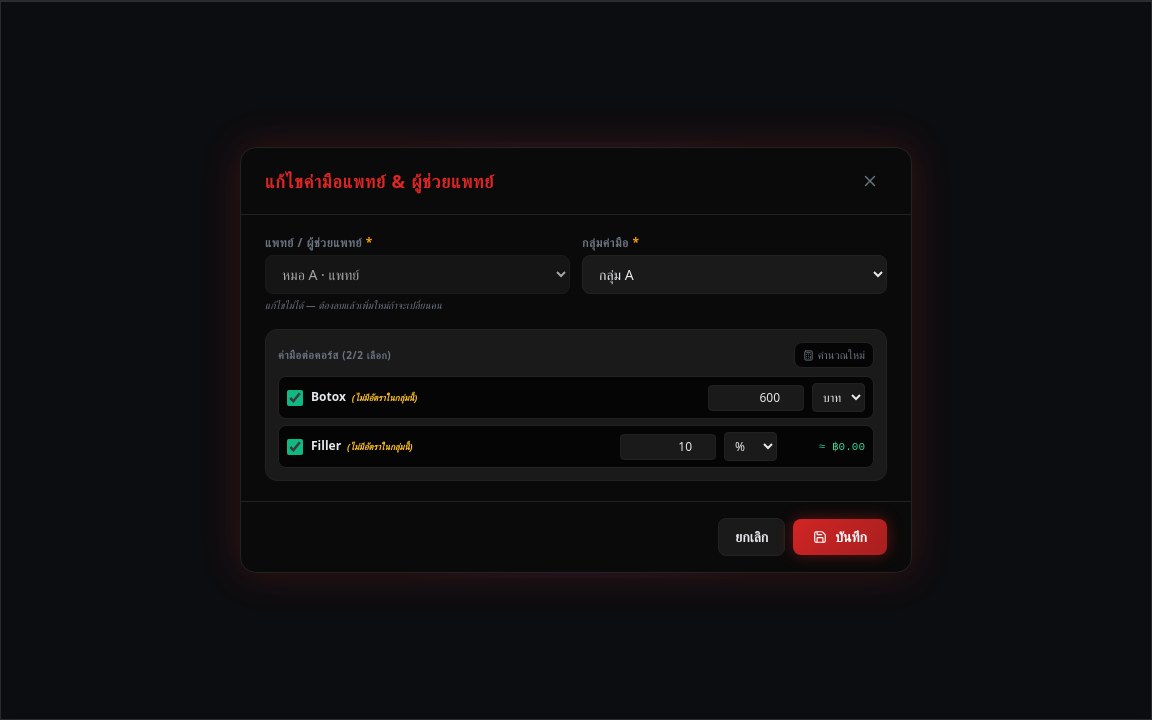
DfEntryModal — EDIT mode › DFM12: changing group in edit mode rebuilds rows
The width and height of the screenshot is (1152, 720).
Select "กลุ่ม B" in the dropdown below "กลุ่มค่ามือ": (734, 274) [582,255,887,294]
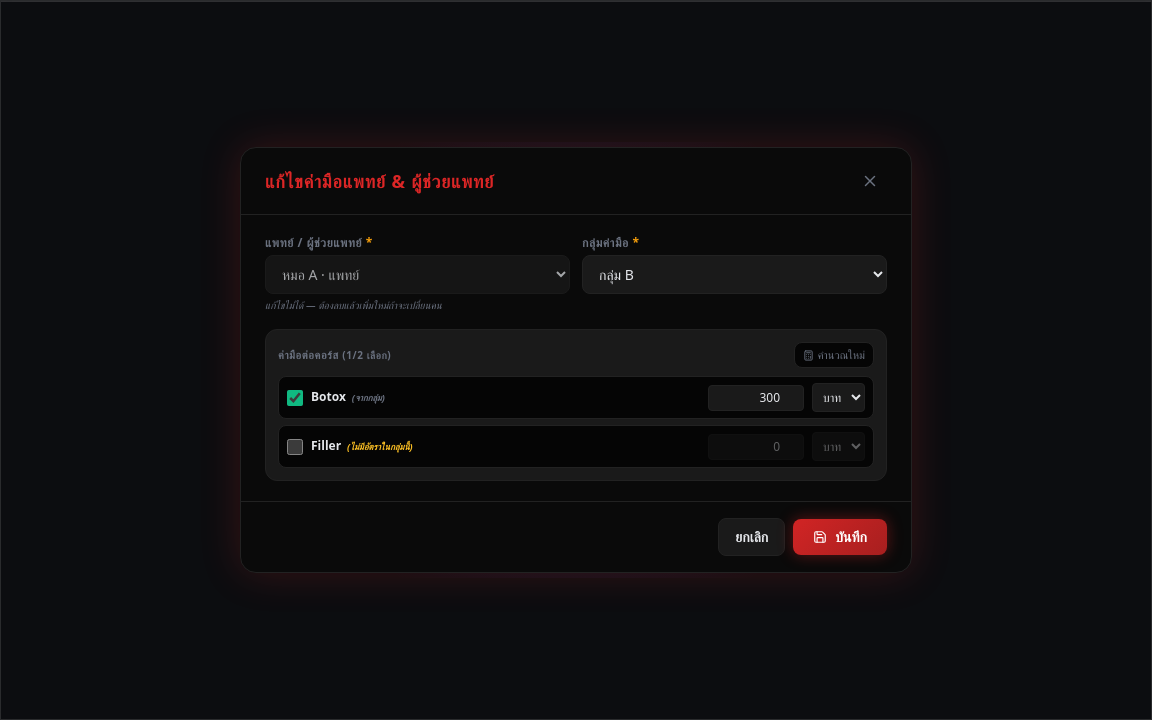
Check: the number field in the row of "จากกลุ่ม" holds "300", box [708,385,804,411]
